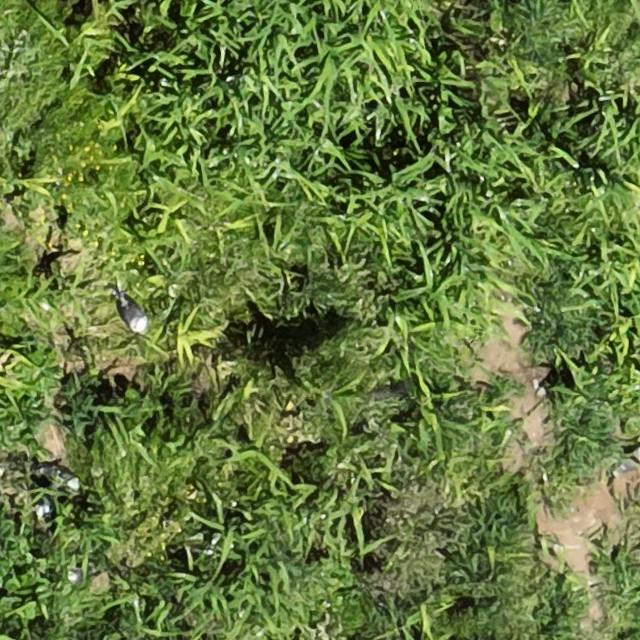umineko: (121, 298, 147, 332)
